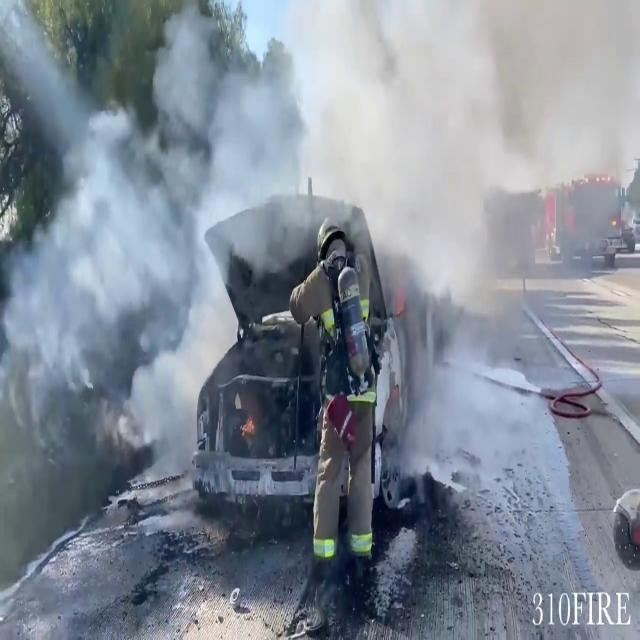Smoke: (0, 2, 275, 470), (283, 0, 640, 303)
